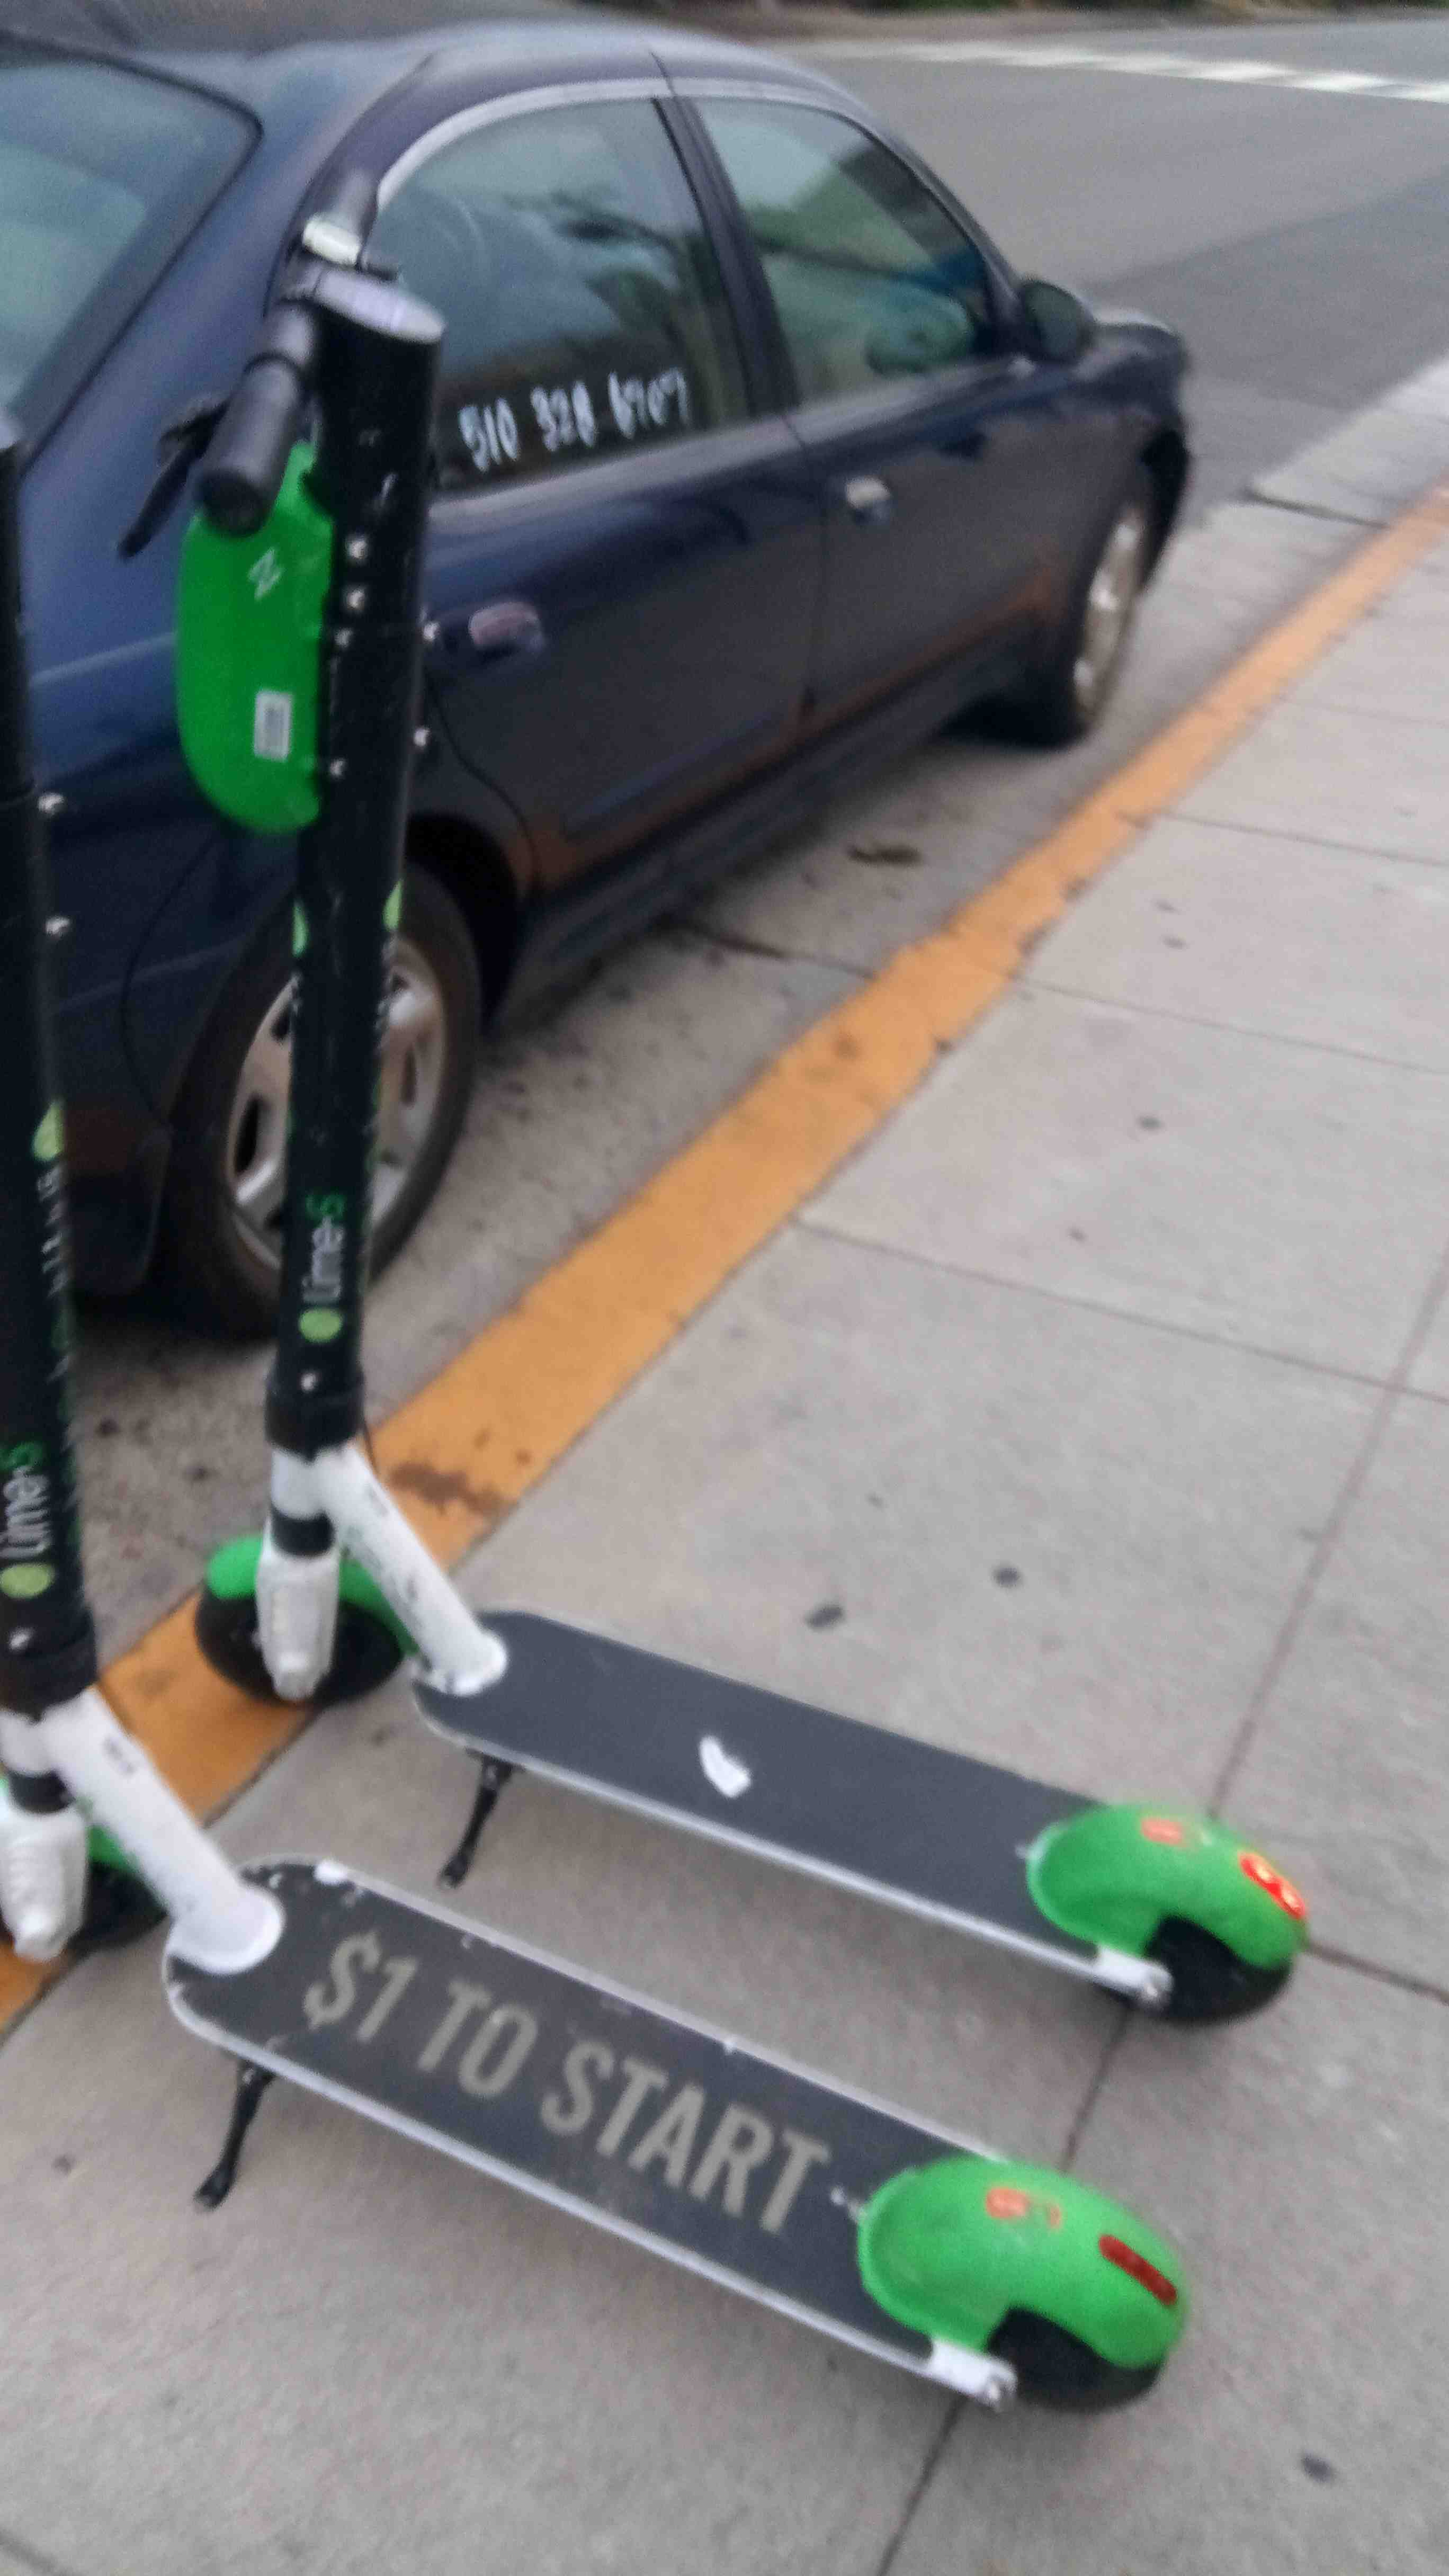too close: (108, 1470, 550, 1815)
